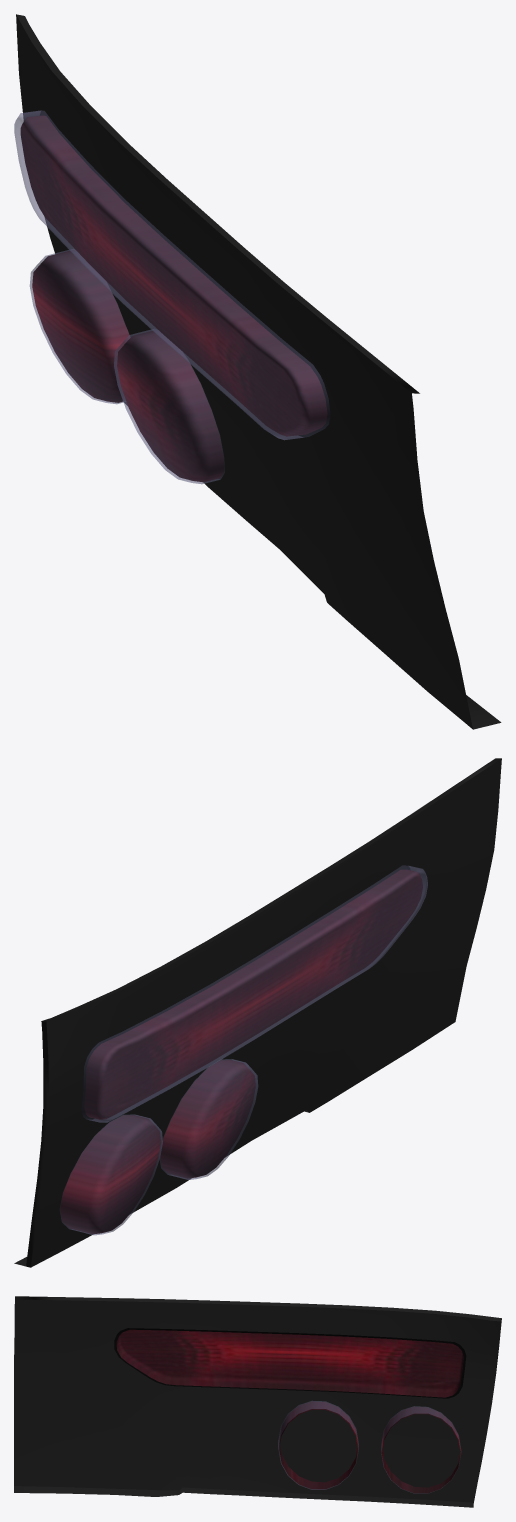
3 views of the same model, one above another, from view 1: azimuth 30°, elevation 25°; view 2: azimuth 150°, elevation 25°; view 3: azimuth 270°, elevation 25° (orthographic). The views are drawn at different scales.
Parts seen in each view (by area): view 1: P353_20_541D_L_P353_20_541D_L_1_D, P353_20_541D_L_P353_20_541D_L_5_N, P353_20_541D_L_P353_20_541D_L_2_DTaSI, P353_20_541D_L_P353_20_541D_L_3_DTaSI, P353_20_541D_L_4_DTaSI_P353_20_541D_L; view 2: P353_20_541D_L_P353_20_541D_L_1_D, P353_20_541D_L_P353_20_541D_L_5_N, P353_20_541D_L_P353_20_541D_L_2_DTaSI, P353_20_541D_L_4_DTaSI_P353_20_541D_L, P353_20_541D_L_P353_20_541D_L_3_DTaSI; view 3: P353_20_541D_L_P353_20_541D_L_1_D, P353_20_541D_L_P353_20_541D_L_5_N, P353_20_541D_L_P353_20_541D_L_3_DTaSI, P353_20_541D_L_4_DTaSI_P353_20_541D_L.
Boxes of the visible parts, <box> form: P353_20_541D_L_P353_20_541D_L_1_D: <box>16,14,501,729</box>; P353_20_541D_L_P353_20_541D_L_5_N: <box>20,110,330,482</box>; P353_20_541D_L_P353_20_541D_L_2_DTaSI: <box>14,110,330,440</box>; P353_20_541D_L_P353_20_541D_L_3_DTaSI: <box>114,329,224,484</box>; P353_20_541D_L_4_DTaSI_P353_20_541D_L: <box>29,249,129,404</box>; P353_20_541D_L_P353_20_541D_L_1_D: <box>14,758,501,1267</box>; P353_20_541D_L_P353_20_541D_L_5_N: <box>60,865,422,1234</box>; P353_20_541D_L_P353_20_541D_L_2_DTaSI: <box>81,865,427,1122</box>; P353_20_541D_L_4_DTaSI_P353_20_541D_L: <box>60,1114,162,1235</box>; P353_20_541D_L_P353_20_541D_L_3_DTaSI: <box>160,1059,258,1179</box>; P353_20_541D_L_P353_20_541D_L_1_D: <box>14,1296,501,1507</box>; P353_20_541D_L_P353_20_541D_L_5_N: <box>114,1328,466,1493</box>; P353_20_541D_L_P353_20_541D_L_3_DTaSI: <box>278,1401,358,1489</box>; P353_20_541D_L_4_DTaSI_P353_20_541D_L: <box>381,1406,461,1487</box>.
Bounding box in the file's own units: 11.6 × 22.5 × 56.76.
